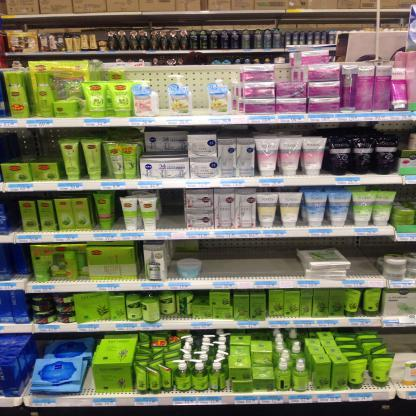Void: (204, 242, 293, 274), (5, 134, 56, 158), (158, 192, 187, 230), (351, 241, 381, 275), (152, 77, 170, 115), (192, 76, 208, 114), (302, 238, 340, 252), (392, 330, 414, 350), (176, 243, 195, 256)
